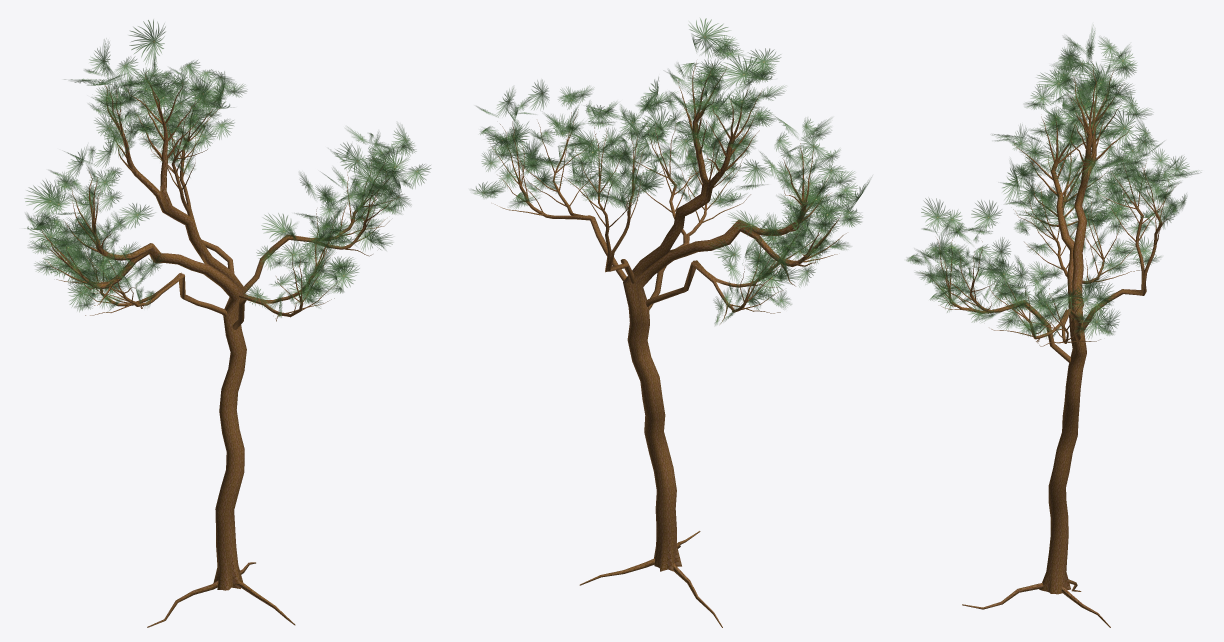
File: arbo_mountain_pine.glb
The picture shows the model from 3 angles, left to right: view 1: azimuth 30°, elevation 25°; view 2: azimuth 150°, elevation 25°; view 3: azimuth 270°, elevation 25°; orthographic projection. The views are drawn at different scales.
Visible parts, largest first — view 1: pine_igly_Mat_0; view 2: pine_igly_Mat_0; view 3: pine_igly_Mat_0.
Part boxes in pixels (x1=…): pine_igly_Mat_0: x1=24, y1=19, x2=430, y2=627; pine_igly_Mat_0: x1=470, y1=18, x2=871, y2=627; pine_igly_Mat_0: x1=906, y1=25, x2=1201, y2=627.
Bounding box in the file's own units: 9.6 × 14 × 6.85.
Materials: 2 (2 with a texture image).
